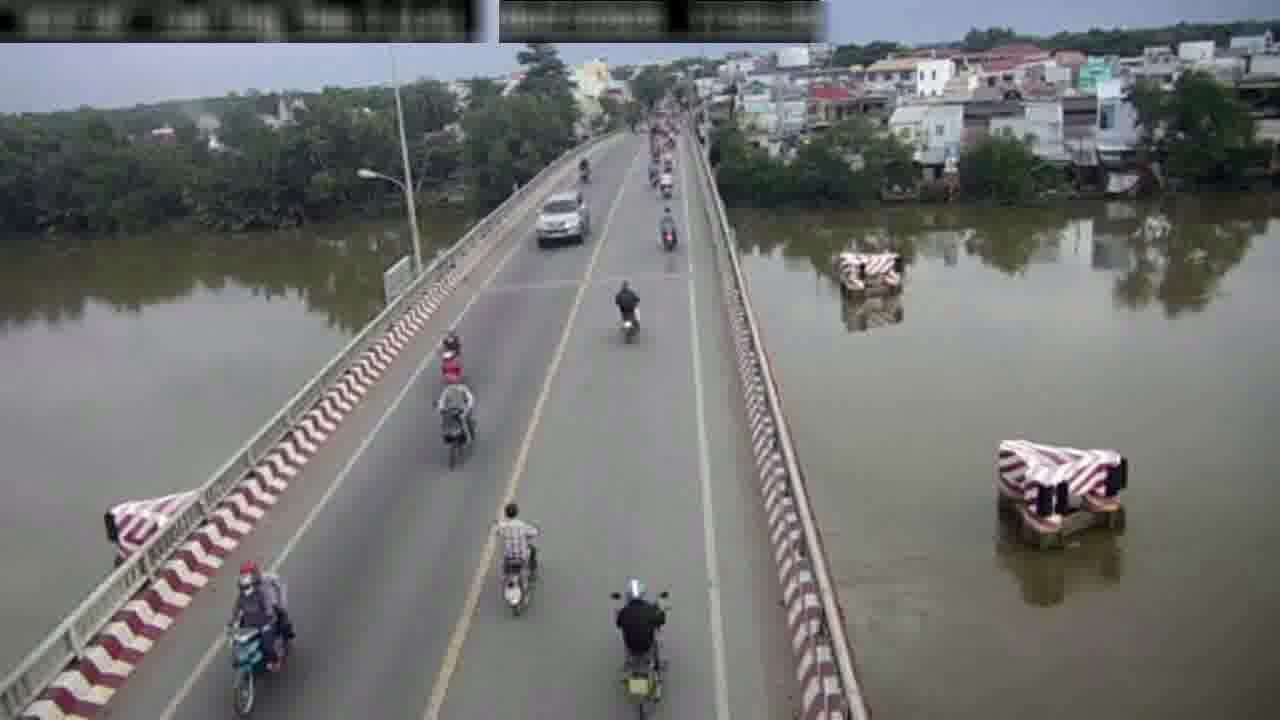container: (533, 187, 594, 252), (656, 201, 679, 251)
motorbike: (220, 553, 289, 720), (604, 578, 670, 714), (490, 490, 539, 625), (434, 372, 475, 470), (614, 277, 645, 342), (430, 324, 461, 383)
